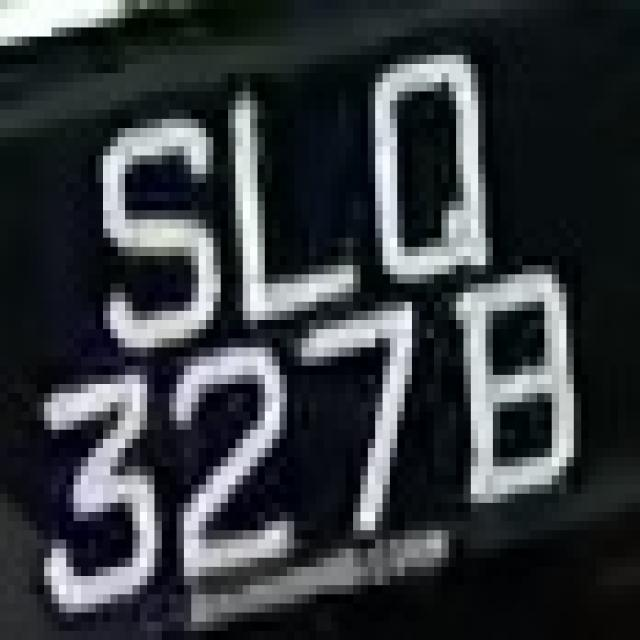2: (154, 338, 323, 594)
3: (22, 338, 169, 631)
7: (294, 302, 427, 548)
B: (449, 247, 596, 548)
L: (220, 91, 360, 348)
Q: (360, 27, 500, 302)
S: (66, 82, 221, 357)
